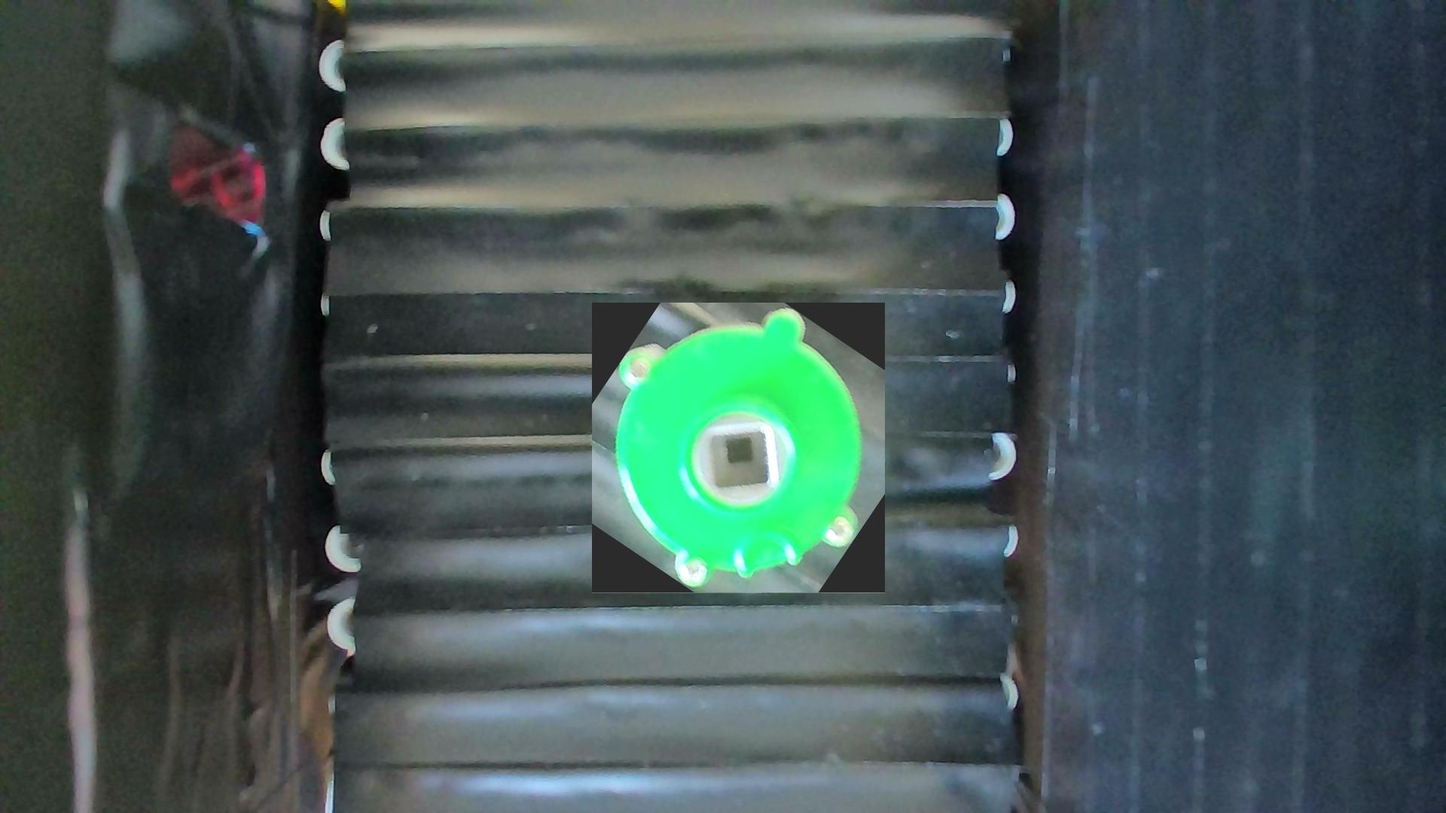cartridge: (592, 303, 885, 594)
